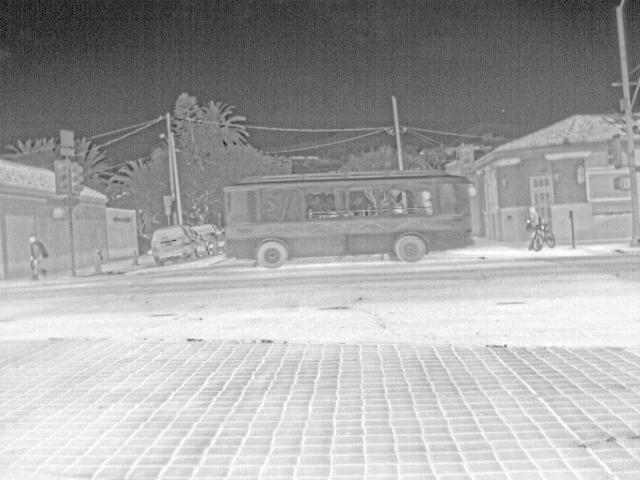car: (151, 225, 202, 268), (194, 223, 220, 255)
person: (29, 235, 47, 283), (526, 206, 541, 228)
